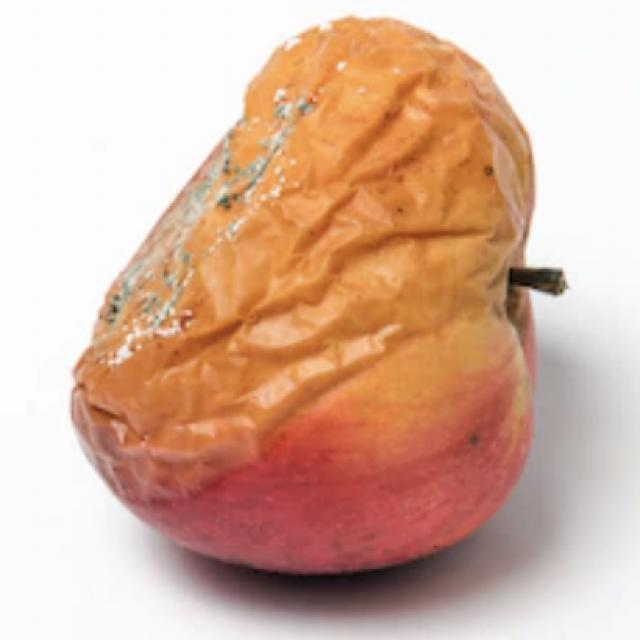Rotten: (100, 4, 542, 588)
